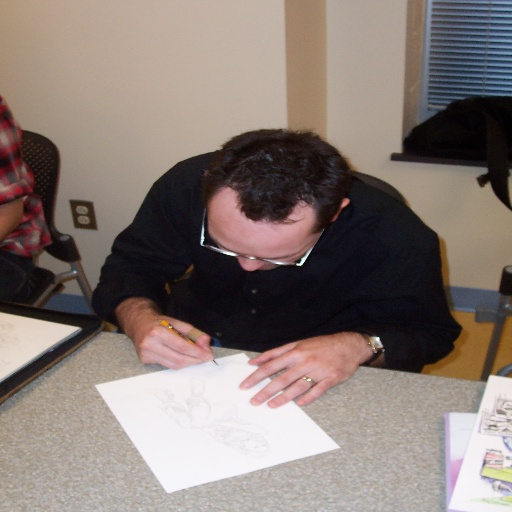hand: (242, 323, 379, 413), (124, 311, 213, 367)
